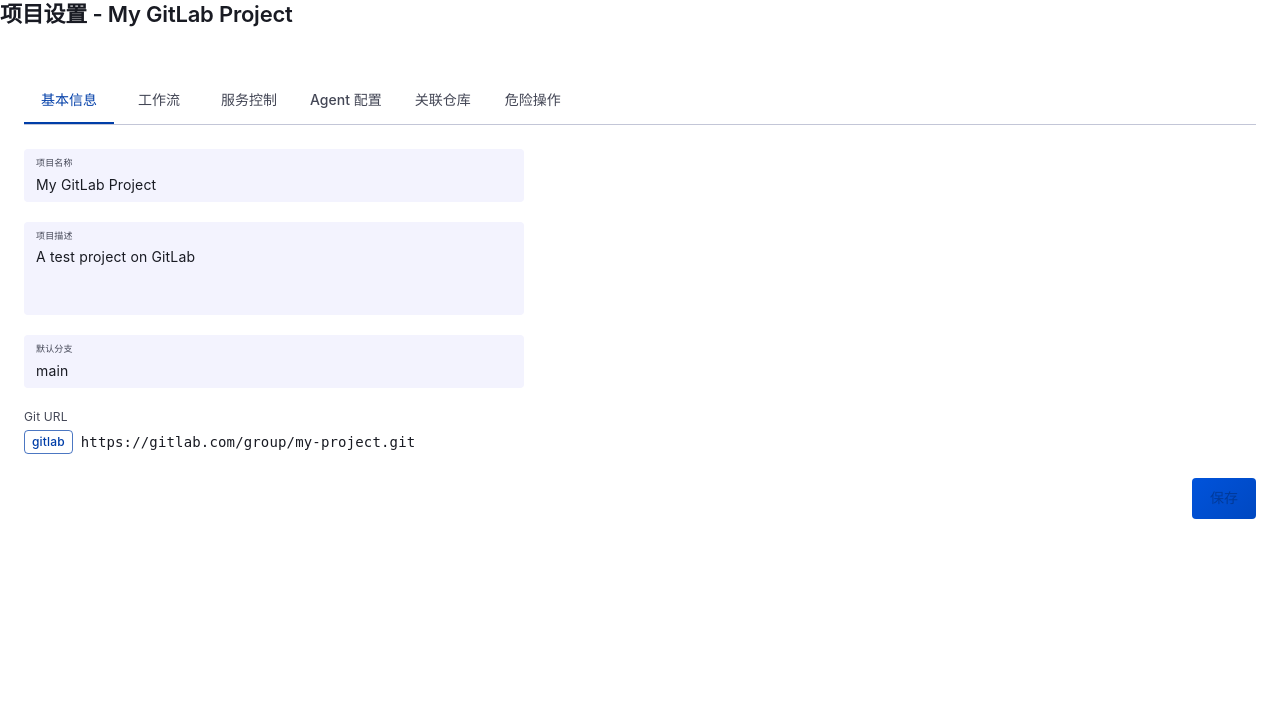
Test: ProjectSettingsPage › delete button shows confirmation dialog
The image size is (1280, 720).
Expected: the heading "项目设置 - My GitLab Project" is shown, [0,1,293,27]
Switch to danger zone tab
Click the tab "危险操作" at (533, 100), box [488,76,578,124]
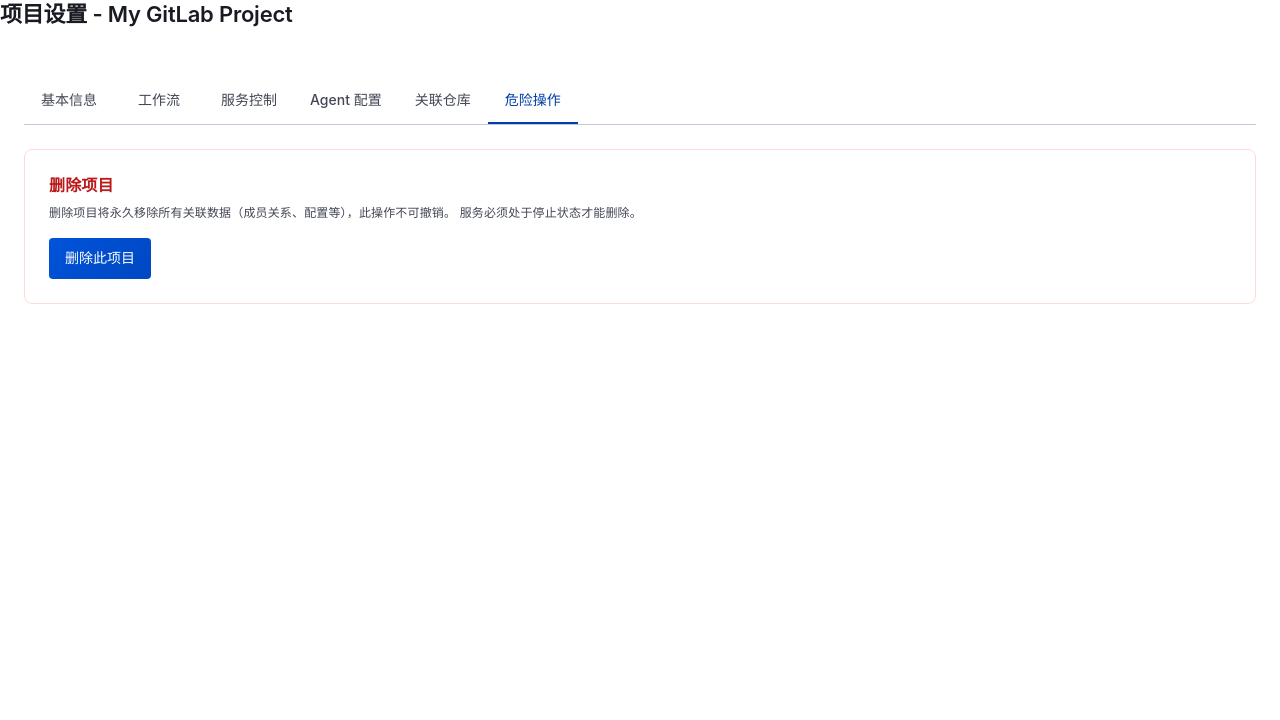
Click delete button
Click the button "删除此项目" at (100, 258), box [49,238,151,278]
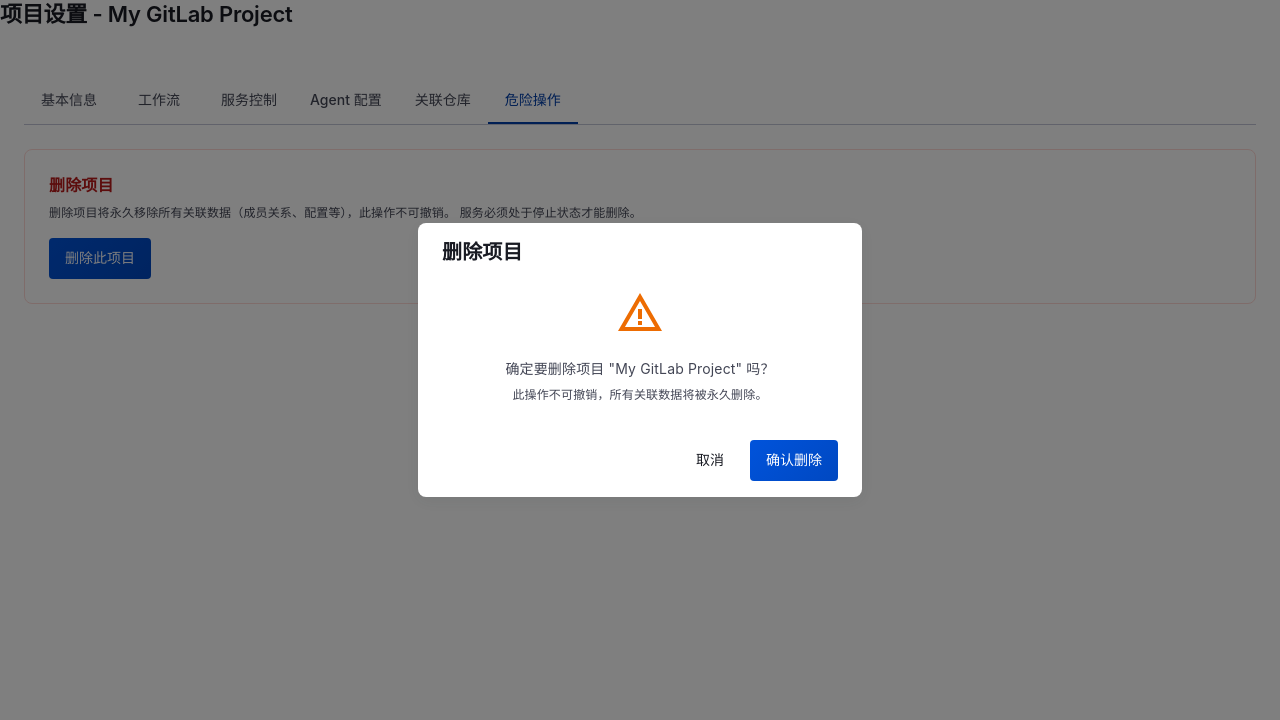
Now the dialog is shown, box [418,223,862,497]
Now the button "确认删除" is shown, box [750,440,838,481]
